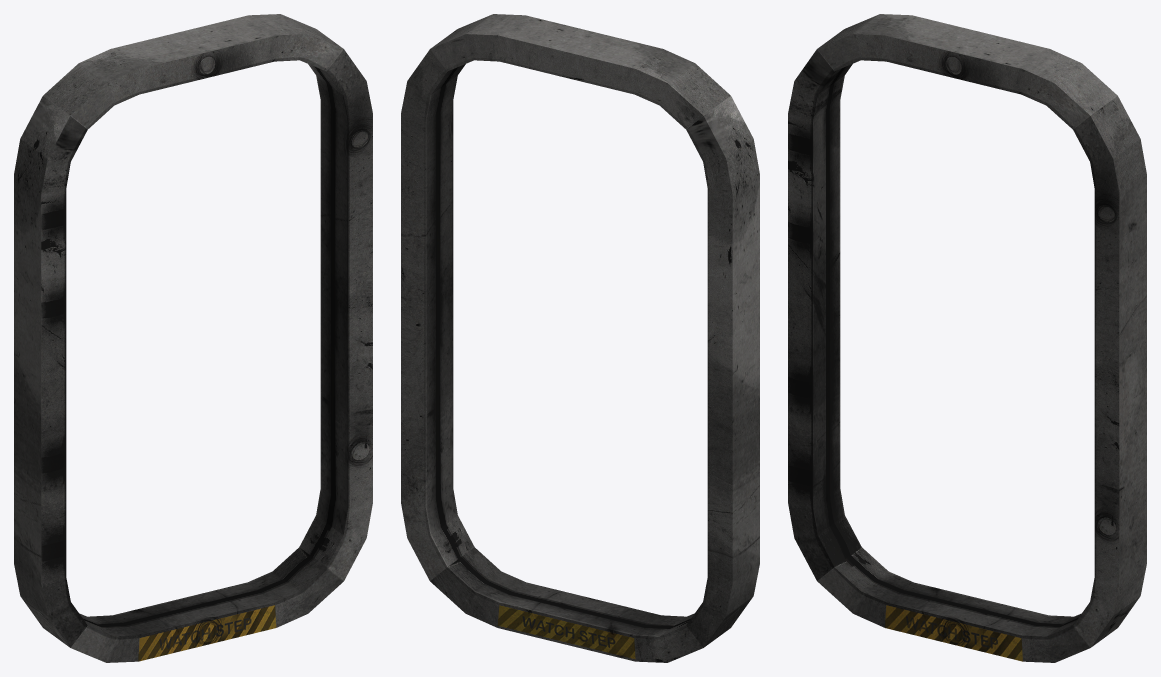
The model's file is p6_blackout_hatch_frame_left_lod3.glb.
3 renders of one model, left to right at view 1: azimuth 30°, elevation 25°; view 2: azimuth 150°, elevation 25°; view 3: azimuth 330°, elevation 25°, orthographic.
Visible parts, largest first — view 1: surf0; view 2: surf0; view 3: surf0.
Boxes of the visible parts, x1,y1,x2,y2 form: surf0: (14, 14, 372, 662); surf0: (401, 14, 759, 662); surf0: (788, 14, 1146, 662).
Size of the model in its own units: 59.77 by 102 by 8.56.
